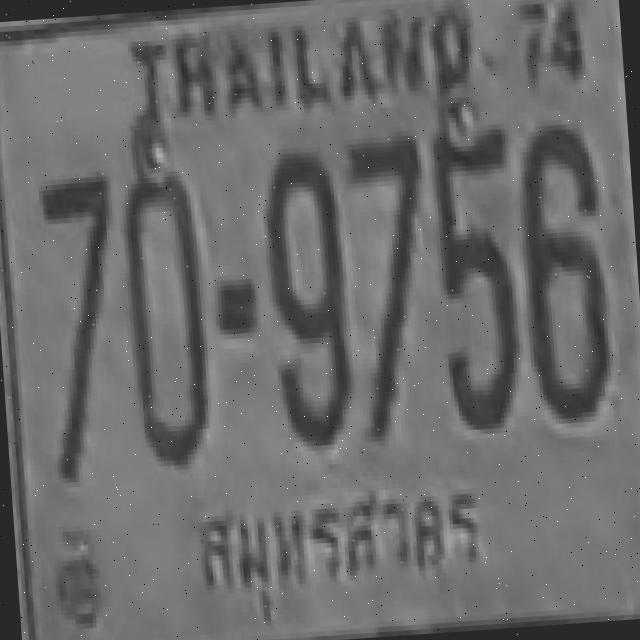0: (118, 162, 214, 465), (260, 146, 352, 442)
5: (427, 118, 522, 426)
6: (512, 117, 611, 420)
7: (343, 130, 436, 436), (37, 171, 126, 473), (37, 171, 119, 371)
9: (260, 146, 352, 442)
SamutSakhon: (186, 468, 491, 637)
